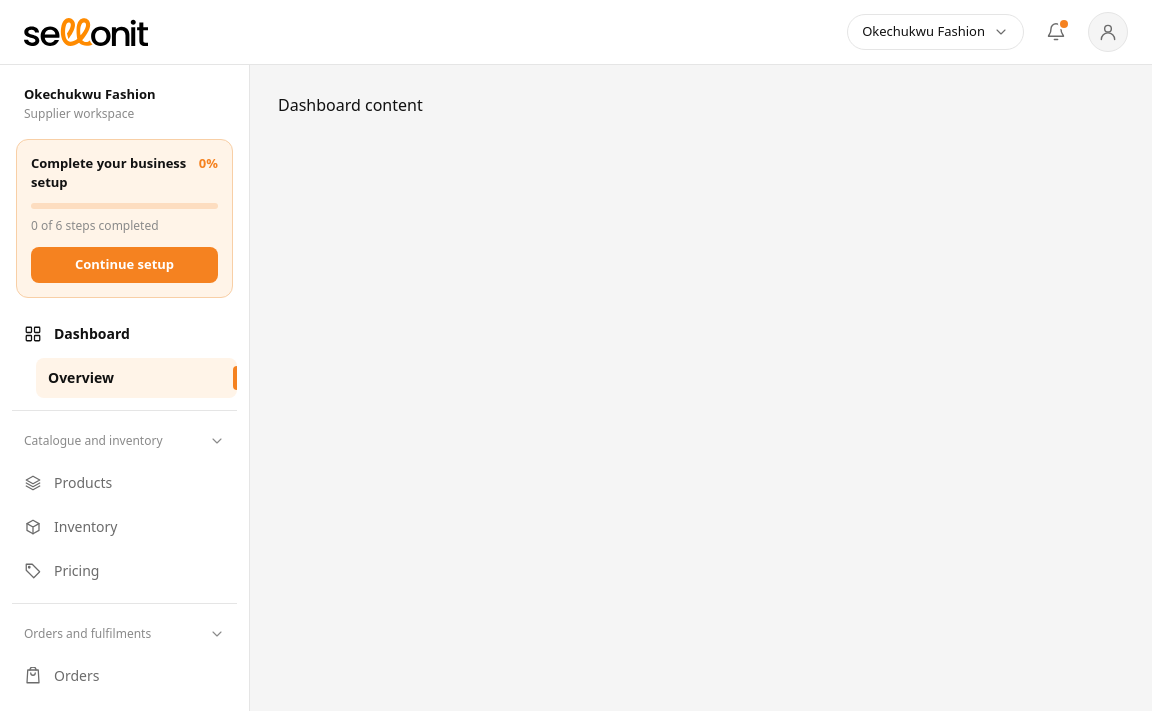
Test: supplier workspace shell › renders the business switcher pill and profile menu with logout
expect the button with aria-label "Switch business, current: Okechukwu Fashion" is shown: met, box [847,14,1024,50]
Click the button named "Account menu".
click(1108, 32)  # box [1088,12,1128,52]
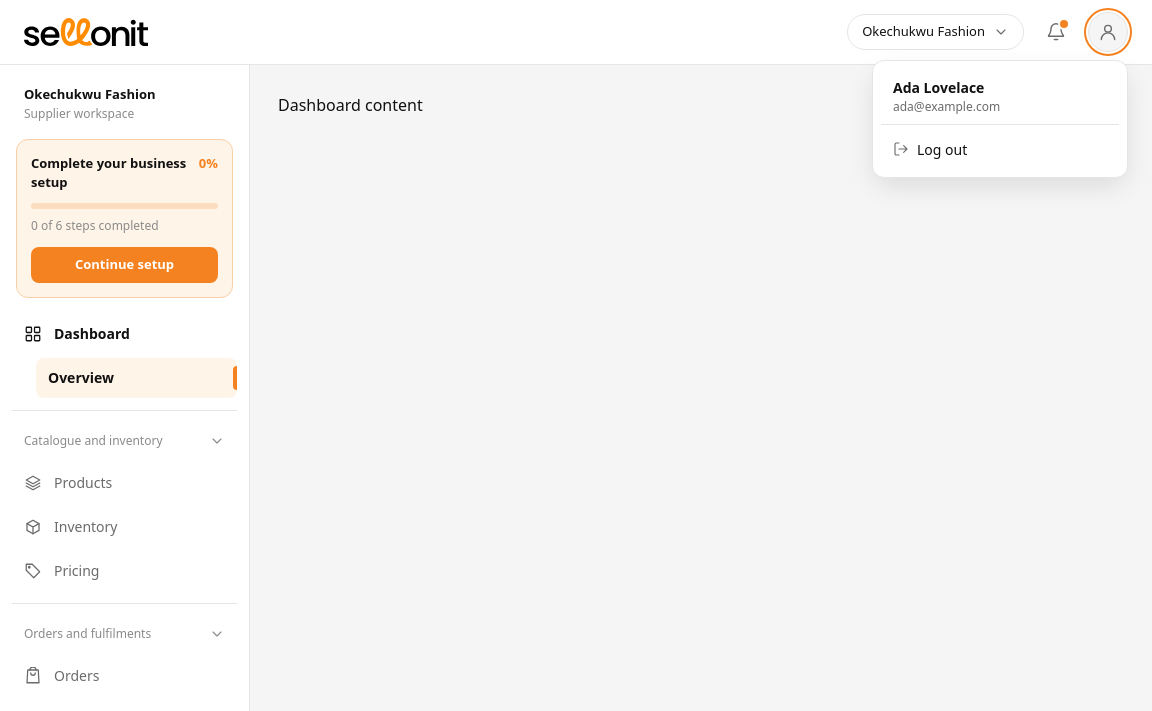
expect the menu item "Log out" is shown: met, box [881,129,1119,169]
